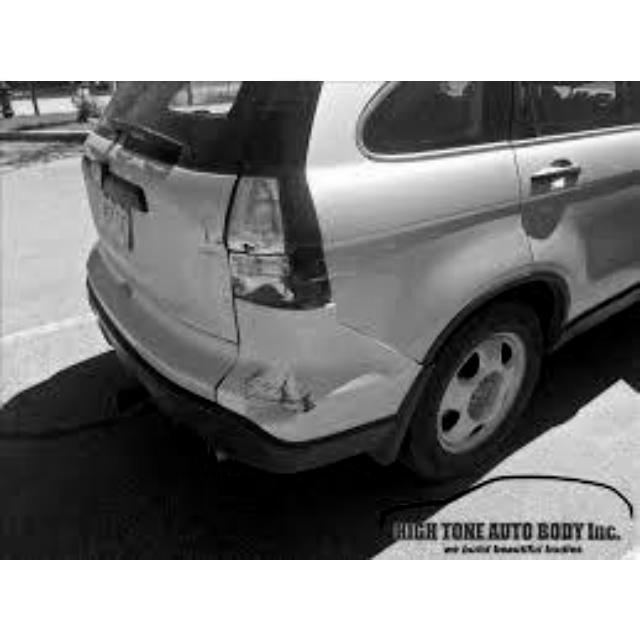rear-bumper-dent: (206, 269, 361, 444)
